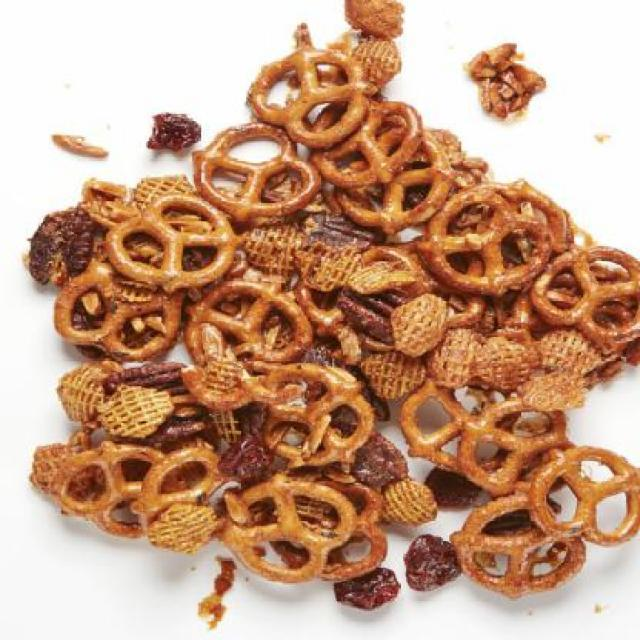Salatini packaged: (29, 46, 628, 594)
